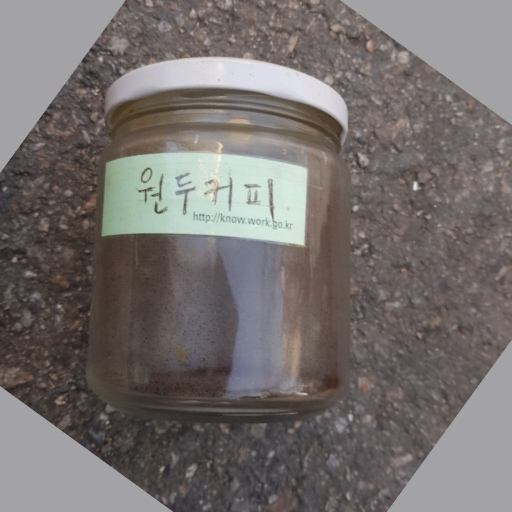Glass_5: (85, 57, 352, 416)
